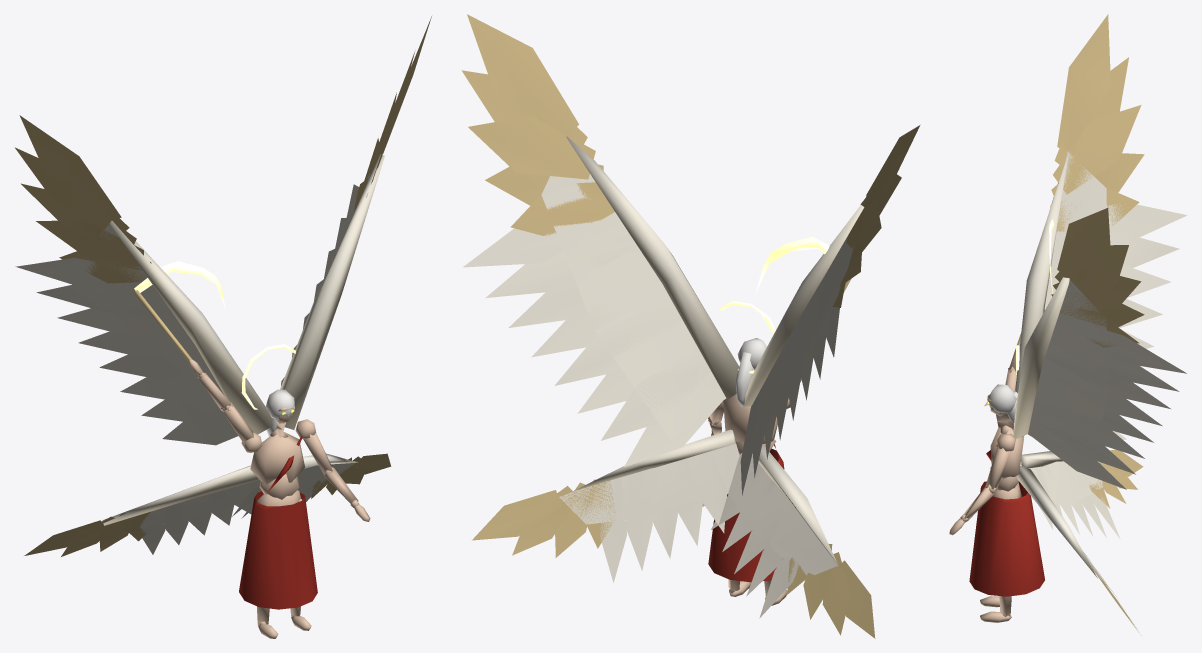
Rendered from samael_lod.glb.
3 renders of one model, left to right at view 1: azimuth 30°, elevation 25°; view 2: azimuth 150°, elevation 25°; view 3: azimuth 270°, elevation 25°, orthographic. The views are drawn at different scales.
Parts seen in each view (by area): view 1: torso, pelvis, hand_R, head, upperarm_L, upperarm_R; view 2: torso, pelvis, head, hand_R; view 3: torso, pelvis, head, upperarm_L, forearm_L.
Part boxes in pixels (box(x1,y1,x2,y2)): torso: box(15, 16, 431, 556); pelvis: box(239, 490, 317, 609); hand_R: box(134, 261, 225, 375); head: box(241, 344, 295, 436); upperarm_L: box(295, 419, 332, 476); upperarm_R: box(222, 402, 262, 453); torso: box(461, 14, 920, 638); pelvis: box(708, 448, 784, 582); head: box(719, 301, 775, 407); hand_R: box(755, 237, 851, 293); torso: box(986, 14, 1187, 633); pelvis: box(969, 481, 1044, 596); head: box(984, 345, 1024, 437); upperarm_L: box(985, 433, 1015, 492); forearm_L: box(960, 484, 996, 522).
Size of the model in its own units: 5.83 by 7.07 by 3.04.
